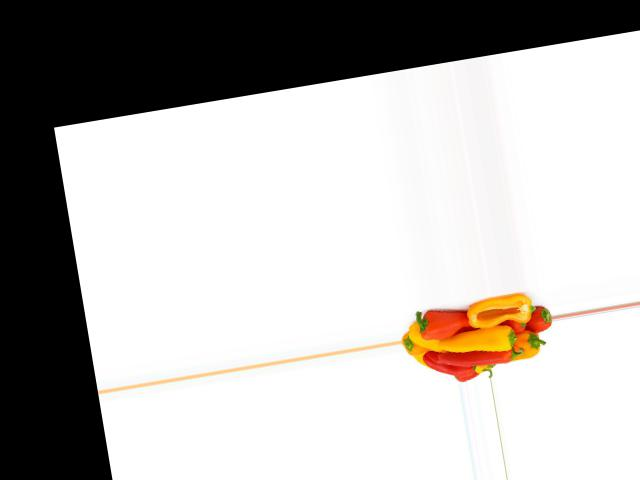bell_pepper: (507, 304, 555, 341)
